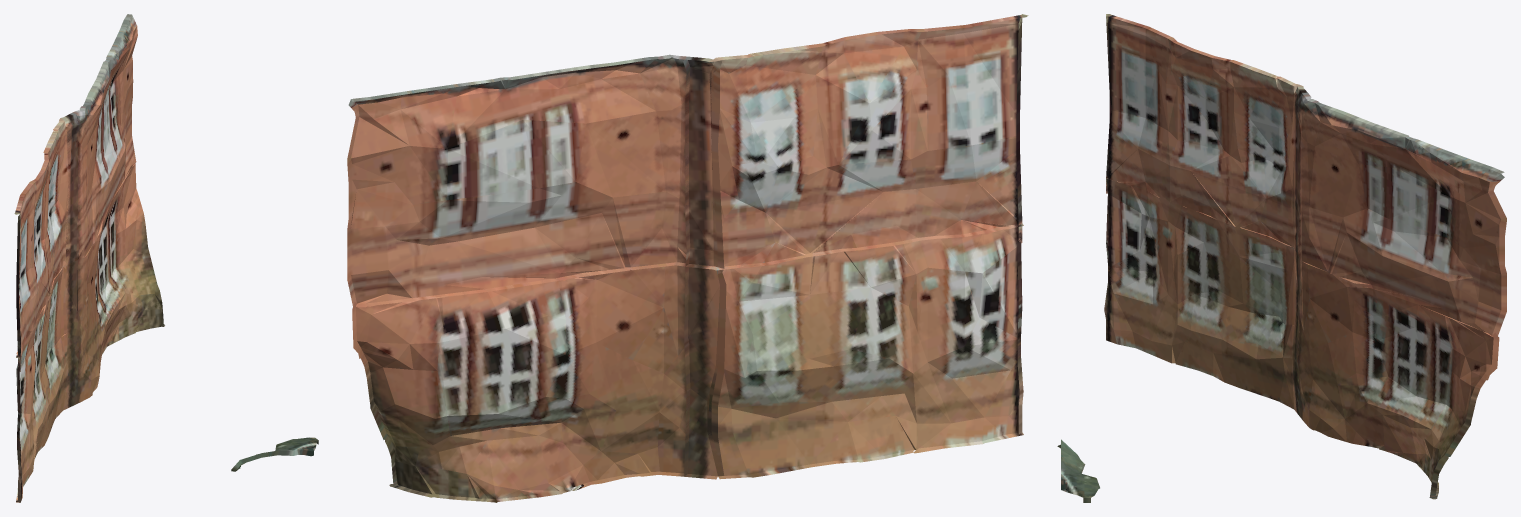
Rendered from BuildingMesh-00135.gltf.
The picture shows the model from 3 angles, left to right: view 1: azimuth 30°, elevation 25°; view 2: azimuth 150°, elevation 25°; view 3: azimuth 270°, elevation 25°; orthographic projection. The views are drawn at different scales.
Visible parts, largest first — view 1: BuildingMesh-00135; view 2: BuildingMesh-00135; view 3: BuildingMesh-00135.
Boxes of the visible parts, box(x1,y1,x2,y2) form: BuildingMesh-00135: box(14, 14, 318, 502); BuildingMesh-00135: box(347, 14, 1028, 502); BuildingMesh-00135: box(1057, 14, 1506, 502).
Bounding box in the file's own units: 0.7961 × 0.7569 × 0.9373.
Materials: 1 (1 with a texture image).
